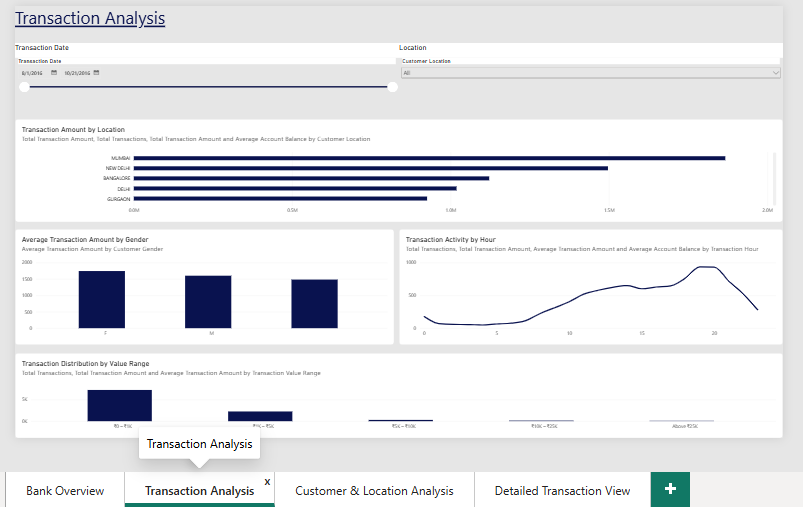

This screenshot's page, from the dashboard's own definition file:
{"tool":"powerbi","page":{"name":"Transaction Analysis","canvas":[1920,1080],"ordinal":1},"visuals":[{"type":"slicer","title":"Transaction Date","fields":{"Values":["bank_transactions.TransactionDate"]},"box":[0,92.5,960,190],"z":0},{"type":"slicer","title":"Location","fields":{"Values":["bank_transactions.Customer Location"]},"box":[960,92.5,960,190],"z":1000},{"type":"clusteredBarChart","title":"Transaction Amount by Location","fields":{"Category":["bank_transactions.Customer Location"],"Y":["bank_transactions.Total Transaction Amount"]},"box":[0,282.5,1920,257.5],"z":2000},{"type":"clusteredColumnChart","title":"Average Transaction Amount by Gender","fields":{"Category":["bank_transactions.Customer Gender"],"Y":["bank_transactions.Average Transaction Amount"]},"box":[0,557.5,947.5,290],"z":3000},{"type":"lineChart","title":"Transaction Activity by Hour","fields":{"Category":["bank_transactions.Transaction Hour"],"Y":["bank_transactions.Total Transactions"]},"box":[960,557.5,960,290],"z":4000},{"type":"clusteredColumnChart","title":"Transaction Distribution by Value Range","fields":{"Category":["bank_transactions.Transaction Value Range"],"Y":["bank_transactions.Total Transactions"]},"box":[0,867.5,1920,212.5],"z":5000},{"type":"textbox","box":[0,0,422.5,150],"z":6000}]}

Visuals, with their boxes on the page's 1920x1080 design canvas (x1, y1, x2, y2). These are canvas units, not pixel positions in the 803x507 screenshot, which may show the page scaled, cropped or inside an application window:
"Transaction Date" slicer: pyautogui.locateOnScreen(0, 92, 960, 282)
"Location" slicer: pyautogui.locateOnScreen(960, 92, 1920, 282)
"Transaction Amount by Location" clusteredBarChart: pyautogui.locateOnScreen(0, 282, 1920, 540)
"Average Transaction Amount by Gender" clusteredColumnChart: pyautogui.locateOnScreen(0, 558, 948, 848)
"Transaction Activity by Hour" lineChart: pyautogui.locateOnScreen(960, 558, 1920, 848)
"Transaction Distribution by Value Range" clusteredColumnChart: pyautogui.locateOnScreen(0, 868, 1920, 1080)
textbox: pyautogui.locateOnScreen(0, 0, 422, 150)
